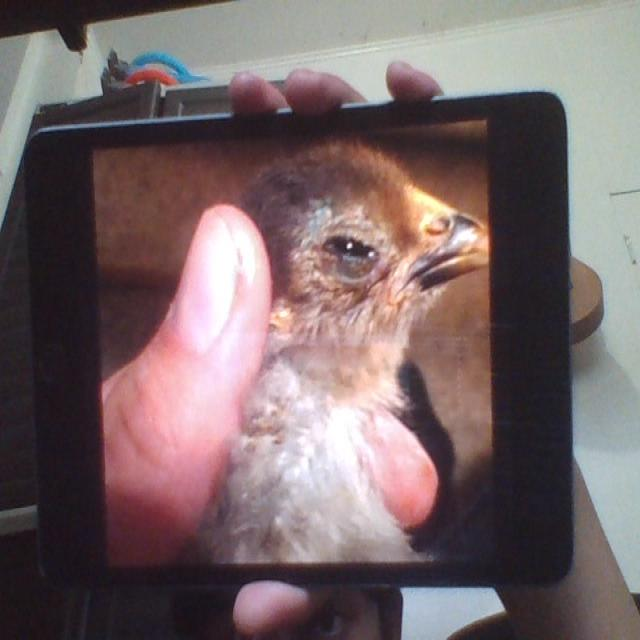Sick: (224, 142, 500, 552)
